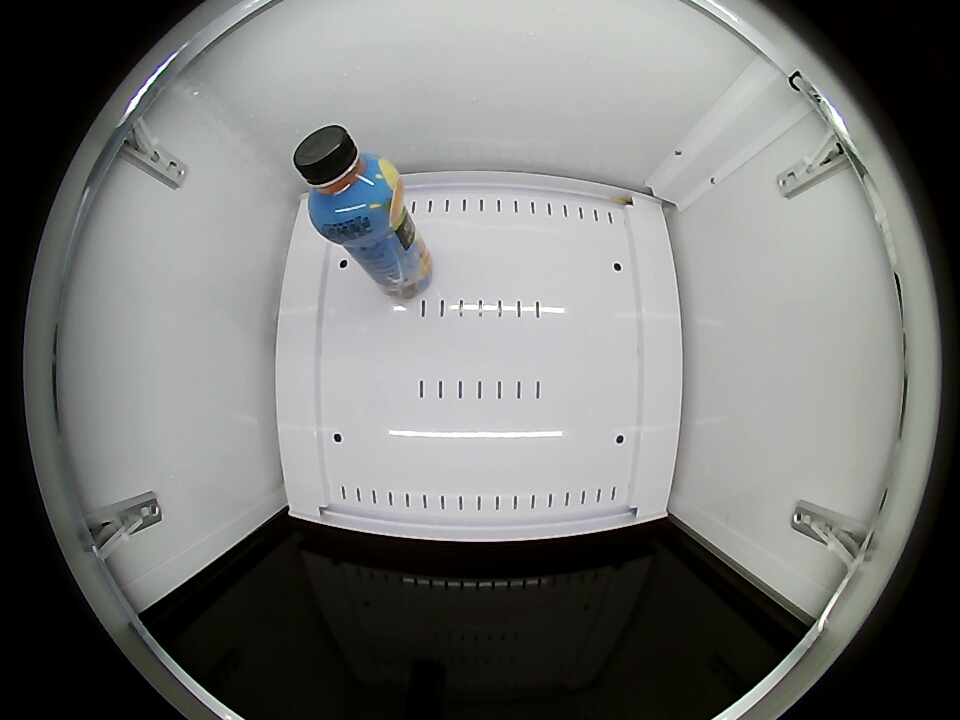guolicheng2: (294, 124, 401, 238)
